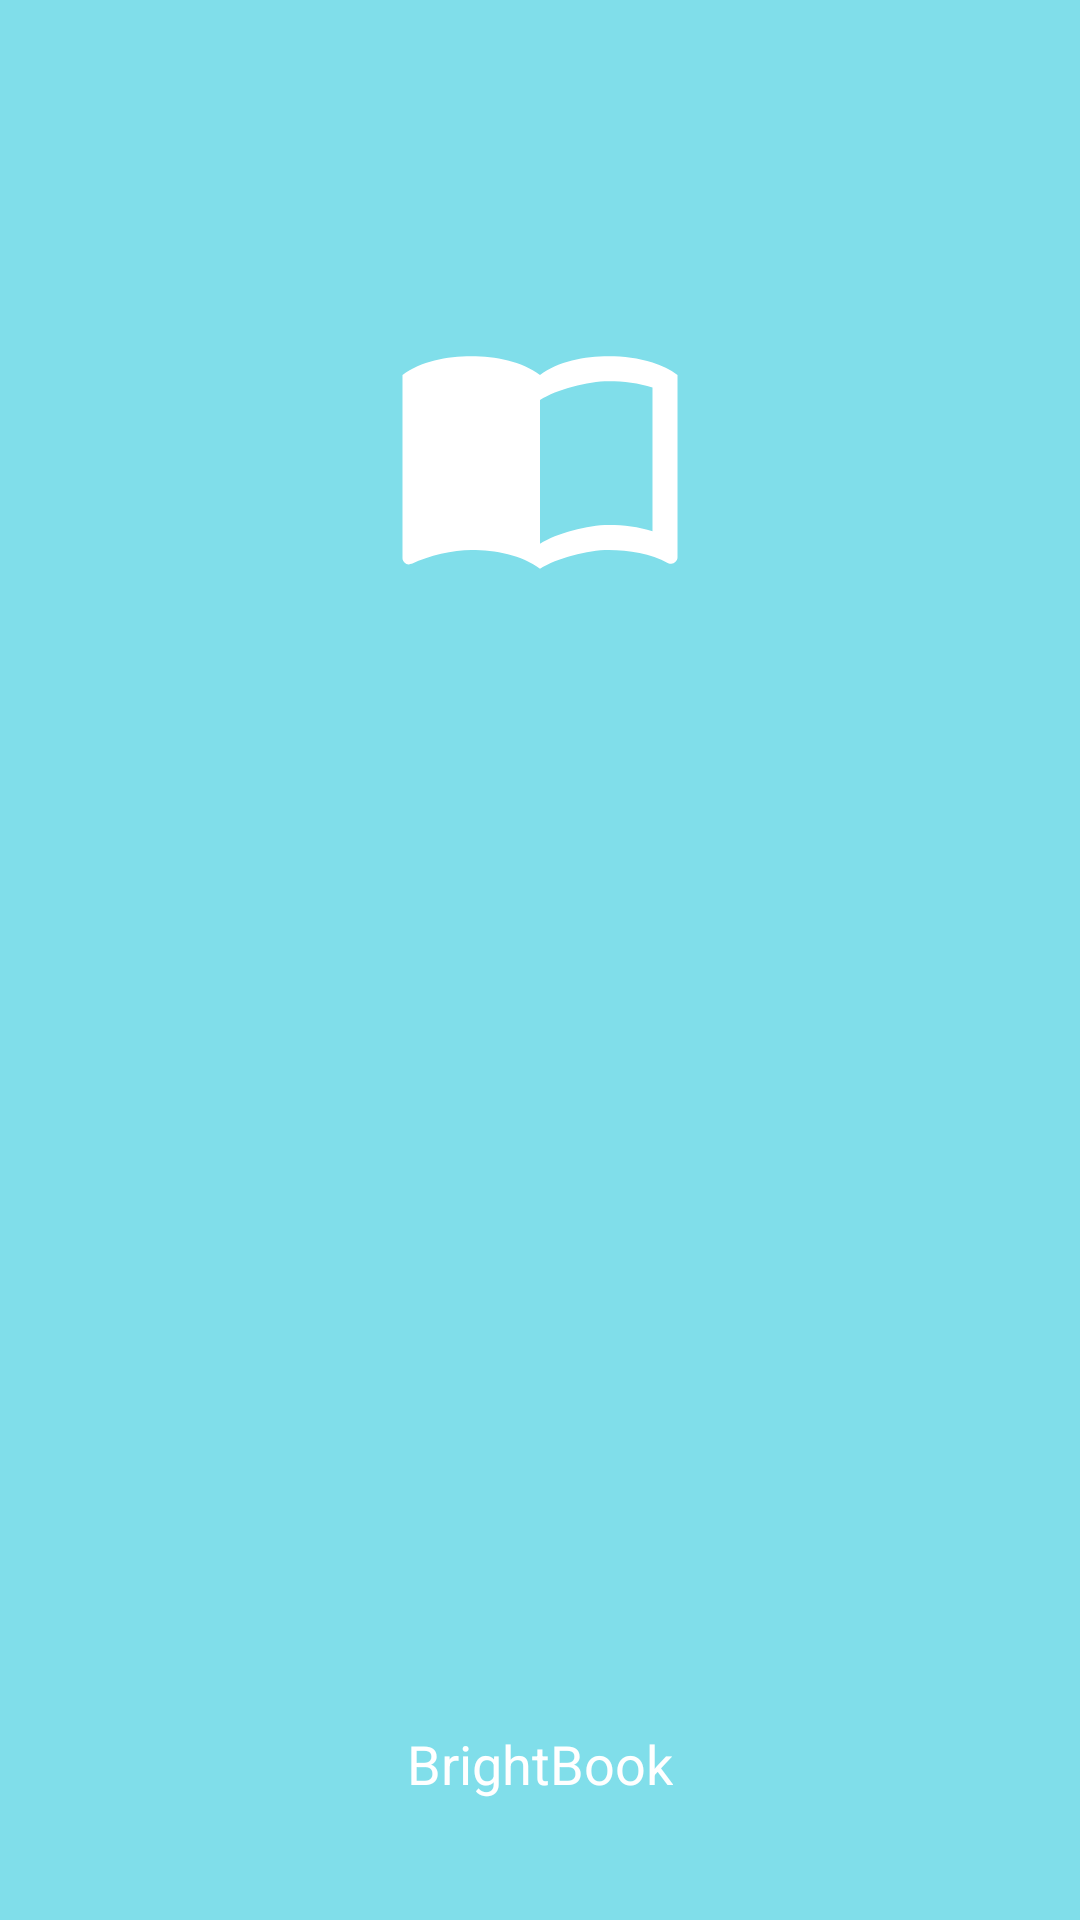

Icons on this 1080*1920 Android screen, each with its box as (x1,y1,x2,y2):
import contacts: (402,356,678,569)
